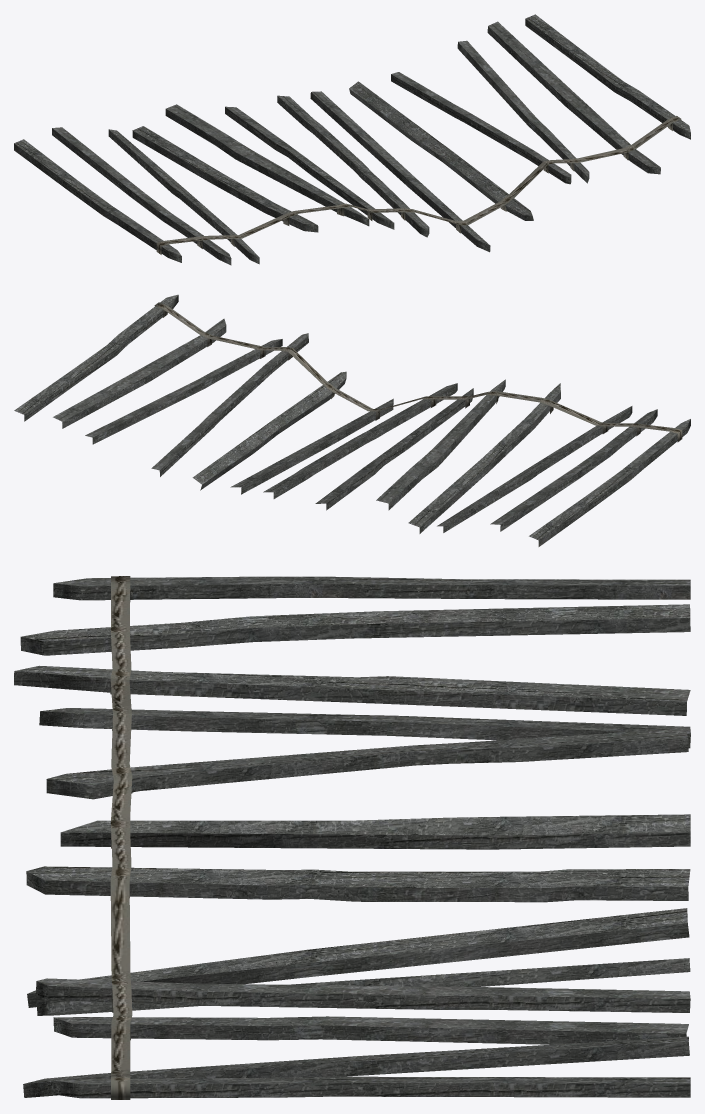
Rendered from caen_fence_2.glb.
3 views of the same model, one above another, from view 1: azimuth 30°, elevation 25°; view 2: azimuth 150°, elevation 25°; view 3: azimuth 270°, elevation 25° (orthographic). The views are drawn at different scales.
Size of the model in its own units: 93.87 by 11.9 by 52.67.
1 material, 1 textured.
